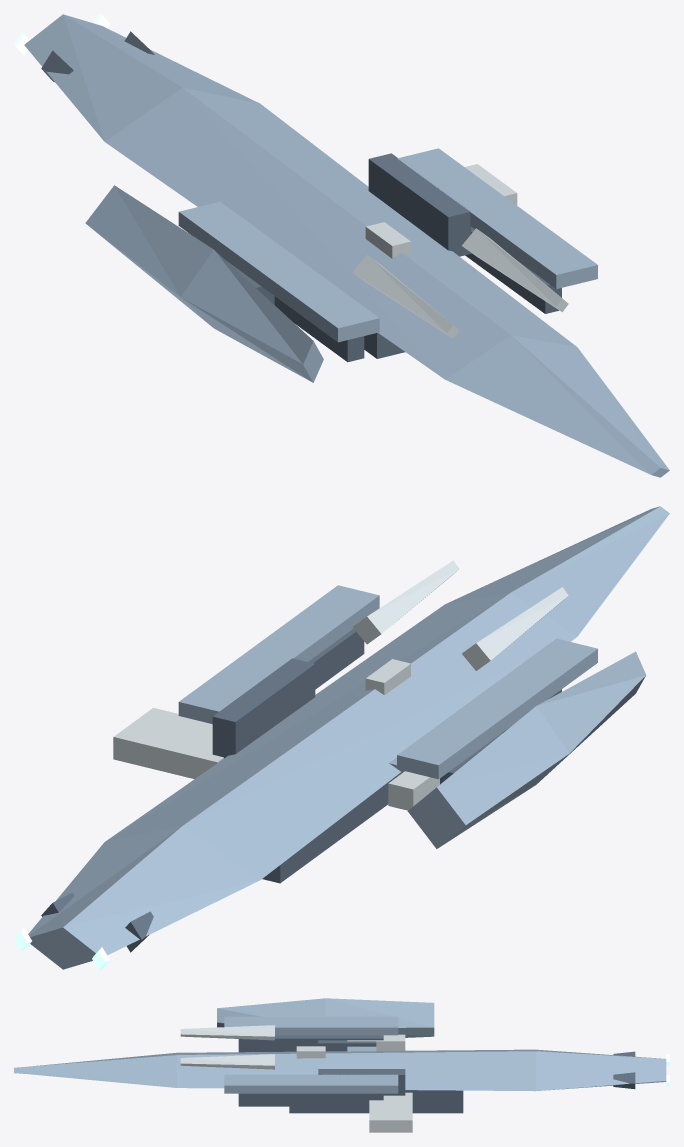
The picture shows the model from 3 angles, top to bottom: view 1: azimuth 30°, elevation 25°; view 2: azimuth 150°, elevation 25°; view 3: azimuth 270°, elevation 25°; orthographic projection. The views are drawn at different scales.
Size of the model in its own units: 6.15 by 1.87 by 17.01.
